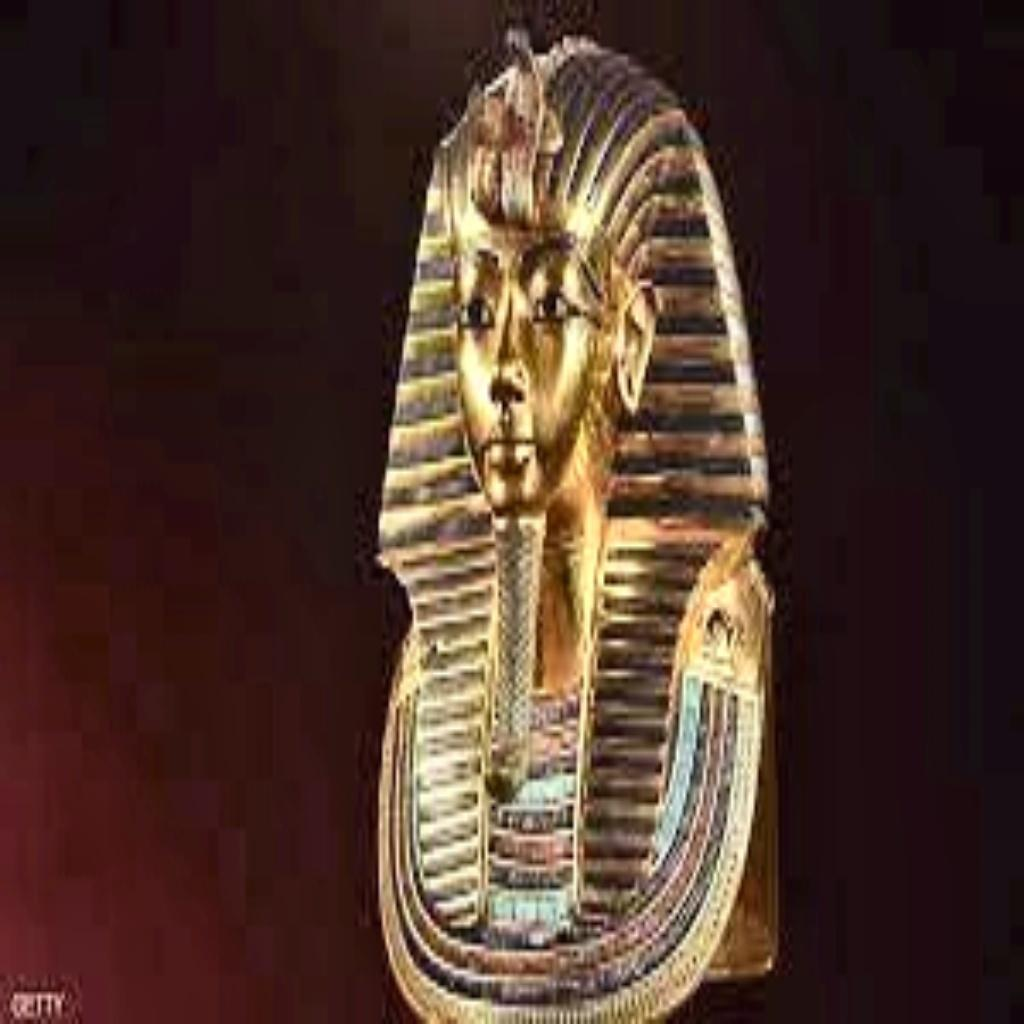Mask of Tutankhamun: (368, 24, 782, 1018)
